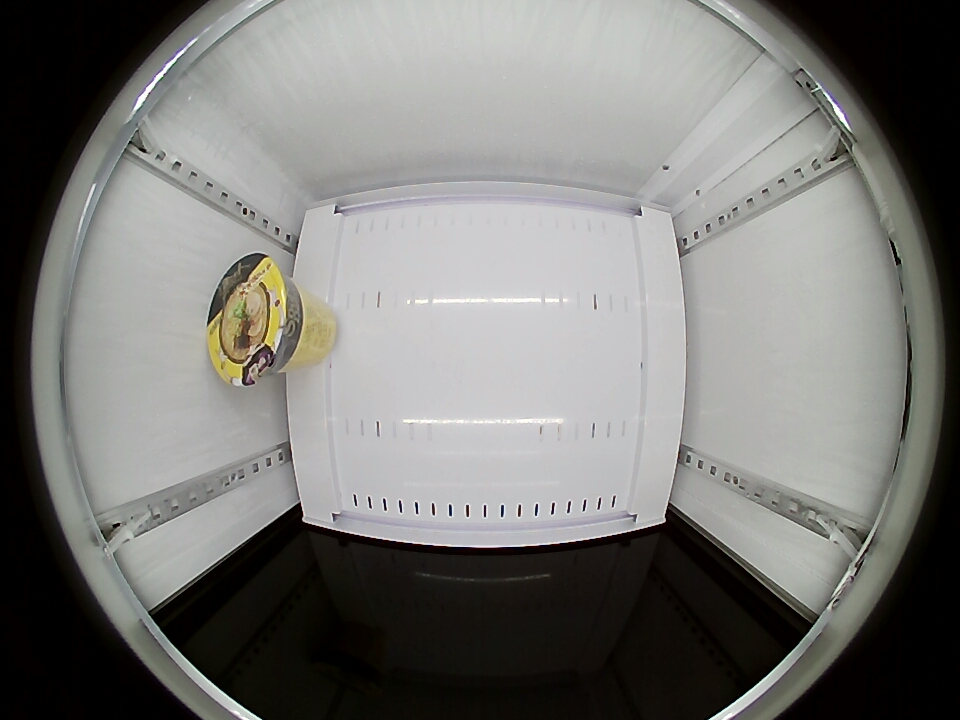tangdaren2: (206, 254, 305, 387)
